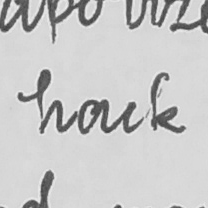a: (74, 95, 112, 135)
c: (118, 96, 142, 136)
h: (34, 67, 66, 137)
k: (147, 70, 188, 137)
